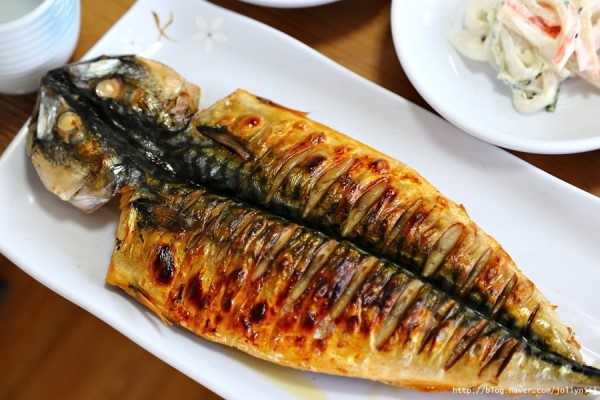godeung-eogu-i: (24, 50, 600, 400)
